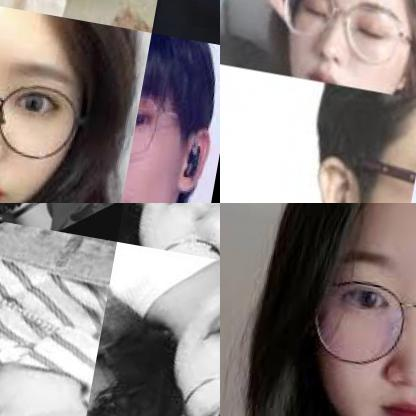Glasses: (267, 0, 415, 71), (352, 142, 415, 202)
glasses: (300, 251, 415, 397), (126, 262, 219, 415), (0, 63, 84, 158), (116, 203, 219, 272), (126, 95, 172, 178)
